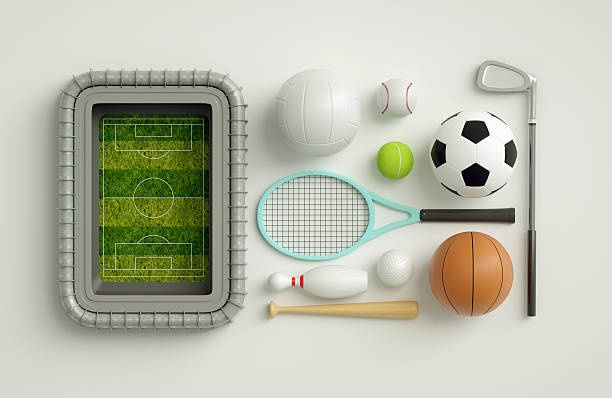bita: (265, 300, 417, 319)
